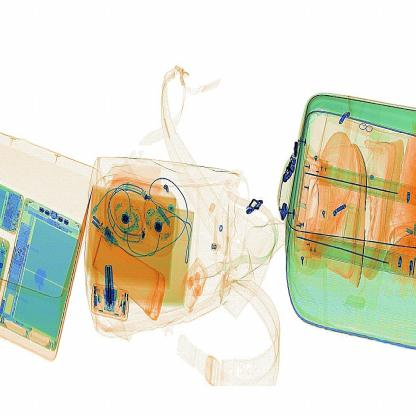scissors: (97, 260, 127, 320)
